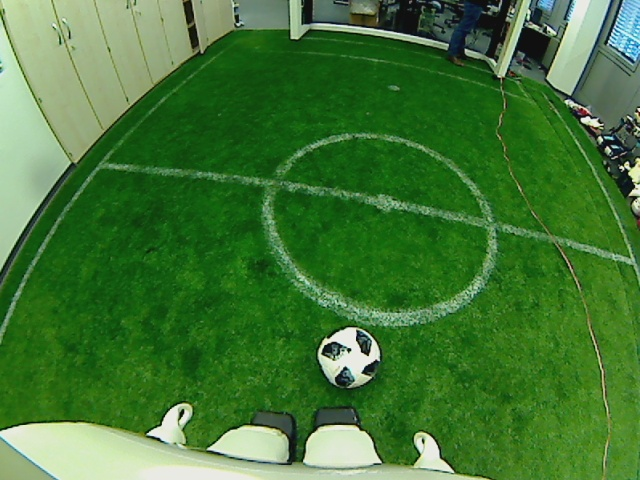ball: (315, 324, 385, 392)
